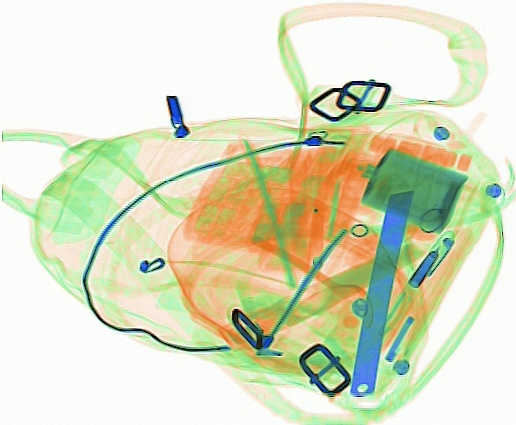knife: (347, 188, 415, 398)
